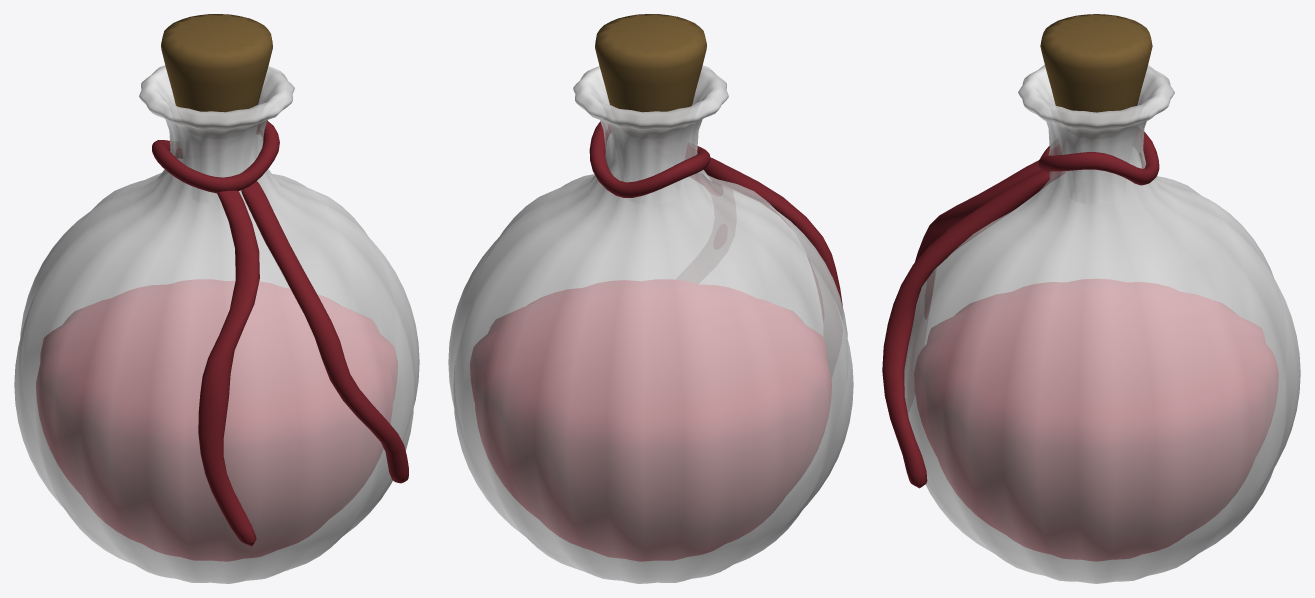
The model's file is sise-kirmizi.fbx.
The picture shows the model from 3 angles, left to right: view 1: azimuth 30°, elevation 25°; view 2: azimuth 150°, elevation 25°; view 3: azimuth 270°, elevation 25°; orthographic projection.
Visible parts, largest first — view 1: Cylinder.065; view 2: Cylinder.065; view 3: Cylinder.065.
Boxes of the visible parts, x1=… form: Cylinder.065: x1=14, y1=14, x2=419, y2=583; Cylinder.065: x1=448, y1=14, x2=853, y2=583; Cylinder.065: x1=882, y1=14, x2=1300, y2=583.
Bounding box in the file's own units: 17.31 × 24.38 × 17.74.
